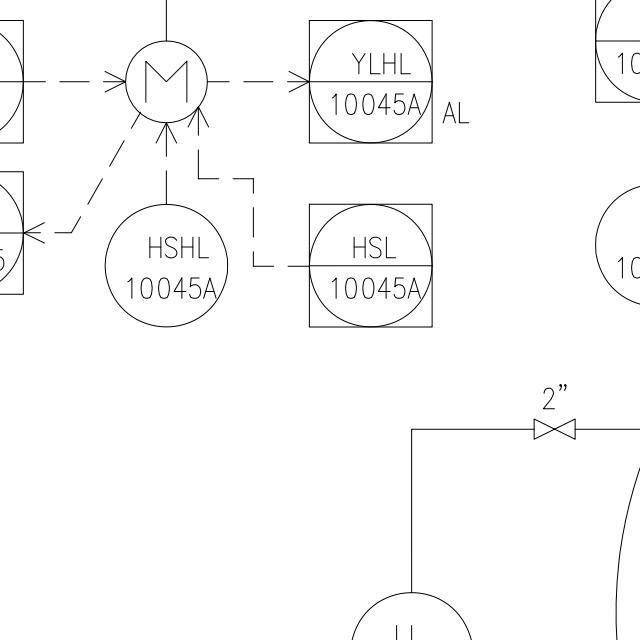GV: (528, 417, 579, 442)
M: (125, 38, 209, 127)
